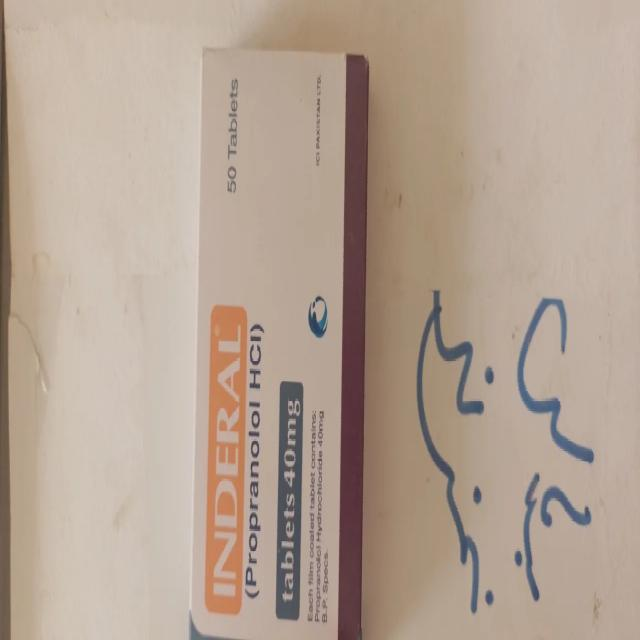drug-name: (212, 318, 245, 602)
